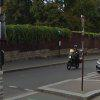Motorcycle: (57, 41, 84, 75)
